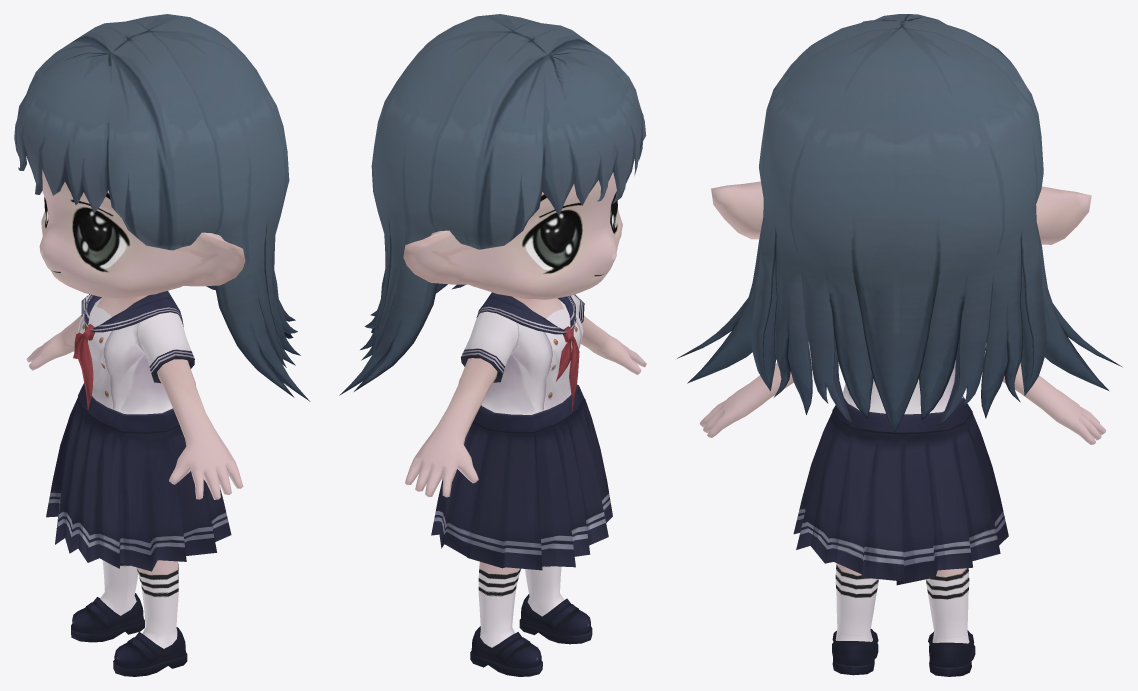
Rendered from miilady_demo.gltf.
The picture shows the model from 3 angles, left to right: view 1: azimuth 30°, elevation 25°; view 2: azimuth 150°, elevation 25°; view 3: azimuth 270°, elevation 25°; orthographic projection. The views are drawn at different scales.
Parts seen in each view (by area): view 1: Milady_hair, Milady_clothing, Milady_model, Milady_clothing.001; view 2: Milady_hair, Milady_clothing, Milady_model, Milady_clothing.001; view 3: Milady_hair, Milady_clothing, Milady_model.
Part boxes in pixels (box(x1,y1,x2,y2)): Milady_hair: box(14, 14, 310, 401); Milady_clothing: box(46, 291, 231, 571); Milady_model: box(26, 170, 245, 676); Milady_clothing.001: box(73, 327, 93, 409); Milady_hair: box(339, 14, 646, 395); Milady_clothing: box(431, 292, 612, 570); Milady_model: box(403, 172, 646, 676); Milady_clothing.001: box(556, 329, 579, 410); Milady_hair: box(677, 14, 1122, 432); Milady_clothing: box(793, 339, 1008, 585); Milady_model: box(699, 181, 1106, 676).
Bounding box in the file's own units: 0.6756 × 1.56 × 0.9877.
Materials: 3 (3 with a texture image).
